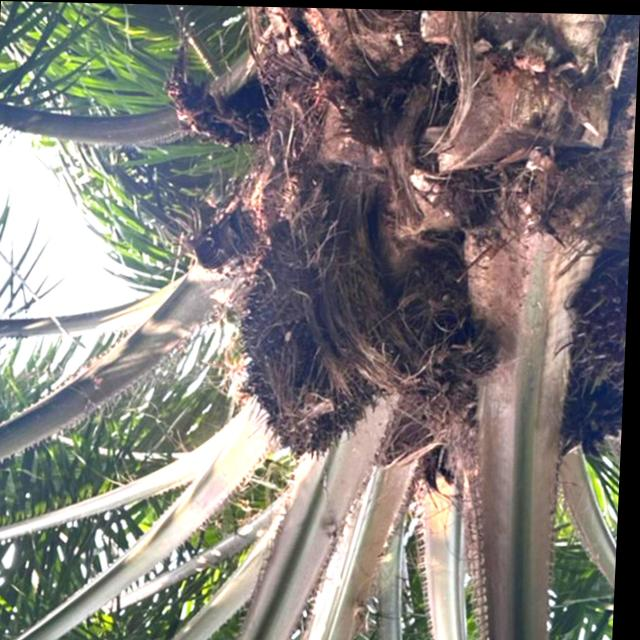unripe: (233, 217, 386, 467), (559, 234, 632, 400)
